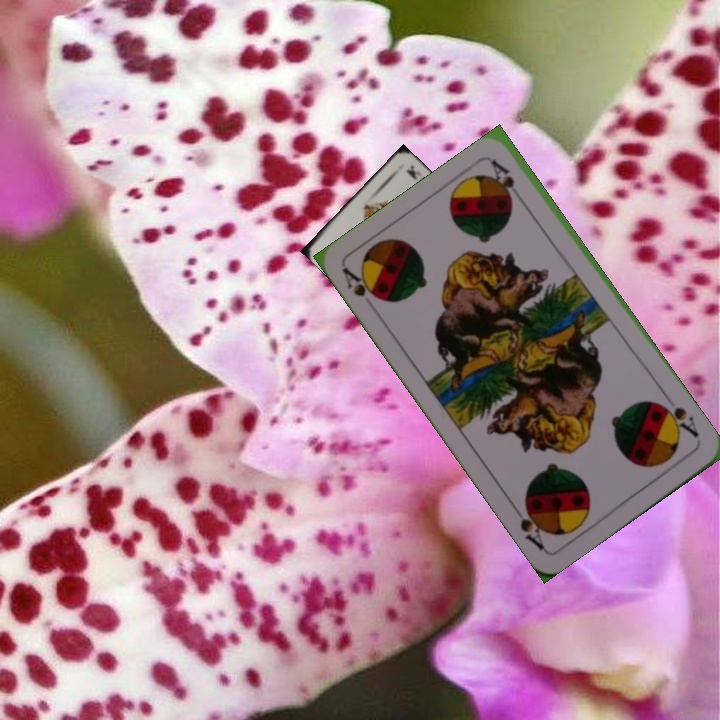SA: (654, 392, 702, 440), (338, 263, 387, 306)
